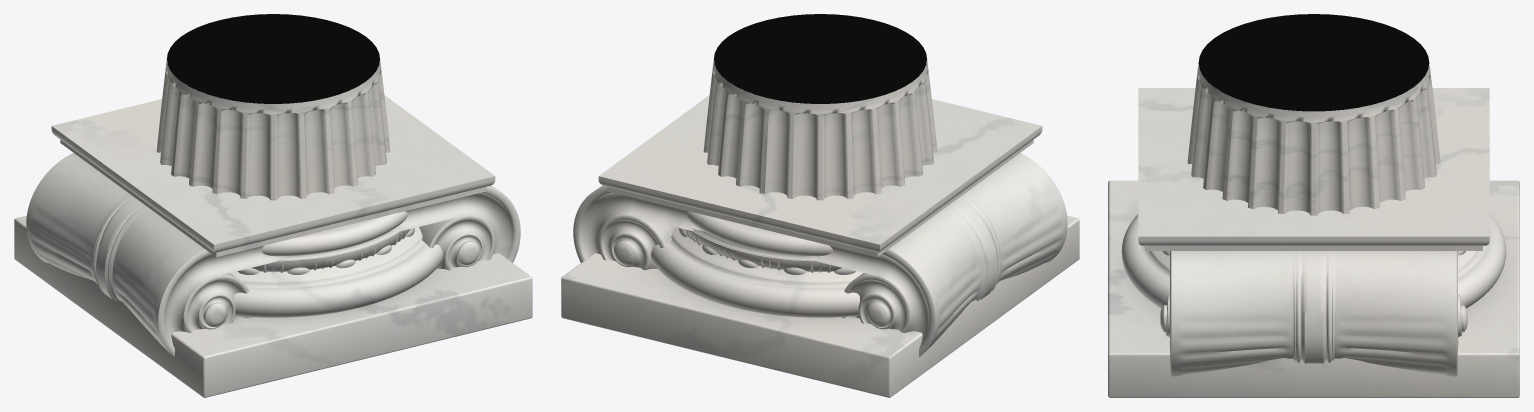
File: column-ionic.glb
3 views of the same model, side by side, from view 1: azimuth 30°, elevation 25°; view 2: azimuth 150°, elevation 25°; view 3: azimuth 270°, elevation 25° (orthographic). The views are drawn at different scales.
Parts seen in each view (by area): view 1: capital, base, shaft; view 2: capital, base, shaft; view 3: capital, shaft, base.
Part boxes in pixels (left/top/right/bottom): capital: left=26, top=89, right=520, bottom=356; base: left=14, top=211, right=532, bottom=397; shaft: left=156, top=14, right=390, bottom=200; capital: left=573, top=89, right=1067, bottom=356; base: left=561, top=211, right=1079, bottom=397; shaft: left=703, top=14, right=937, bottom=200; capital: left=1138, top=88, right=1489, bottom=376; shaft: left=1187, top=14, right=1440, bottom=215; base: left=1108, top=180, right=1519, bottom=397.
Bounding box in the file's own units: 1.65 × 1 × 1.5.
Materials: 1 (1 with a texture image).
